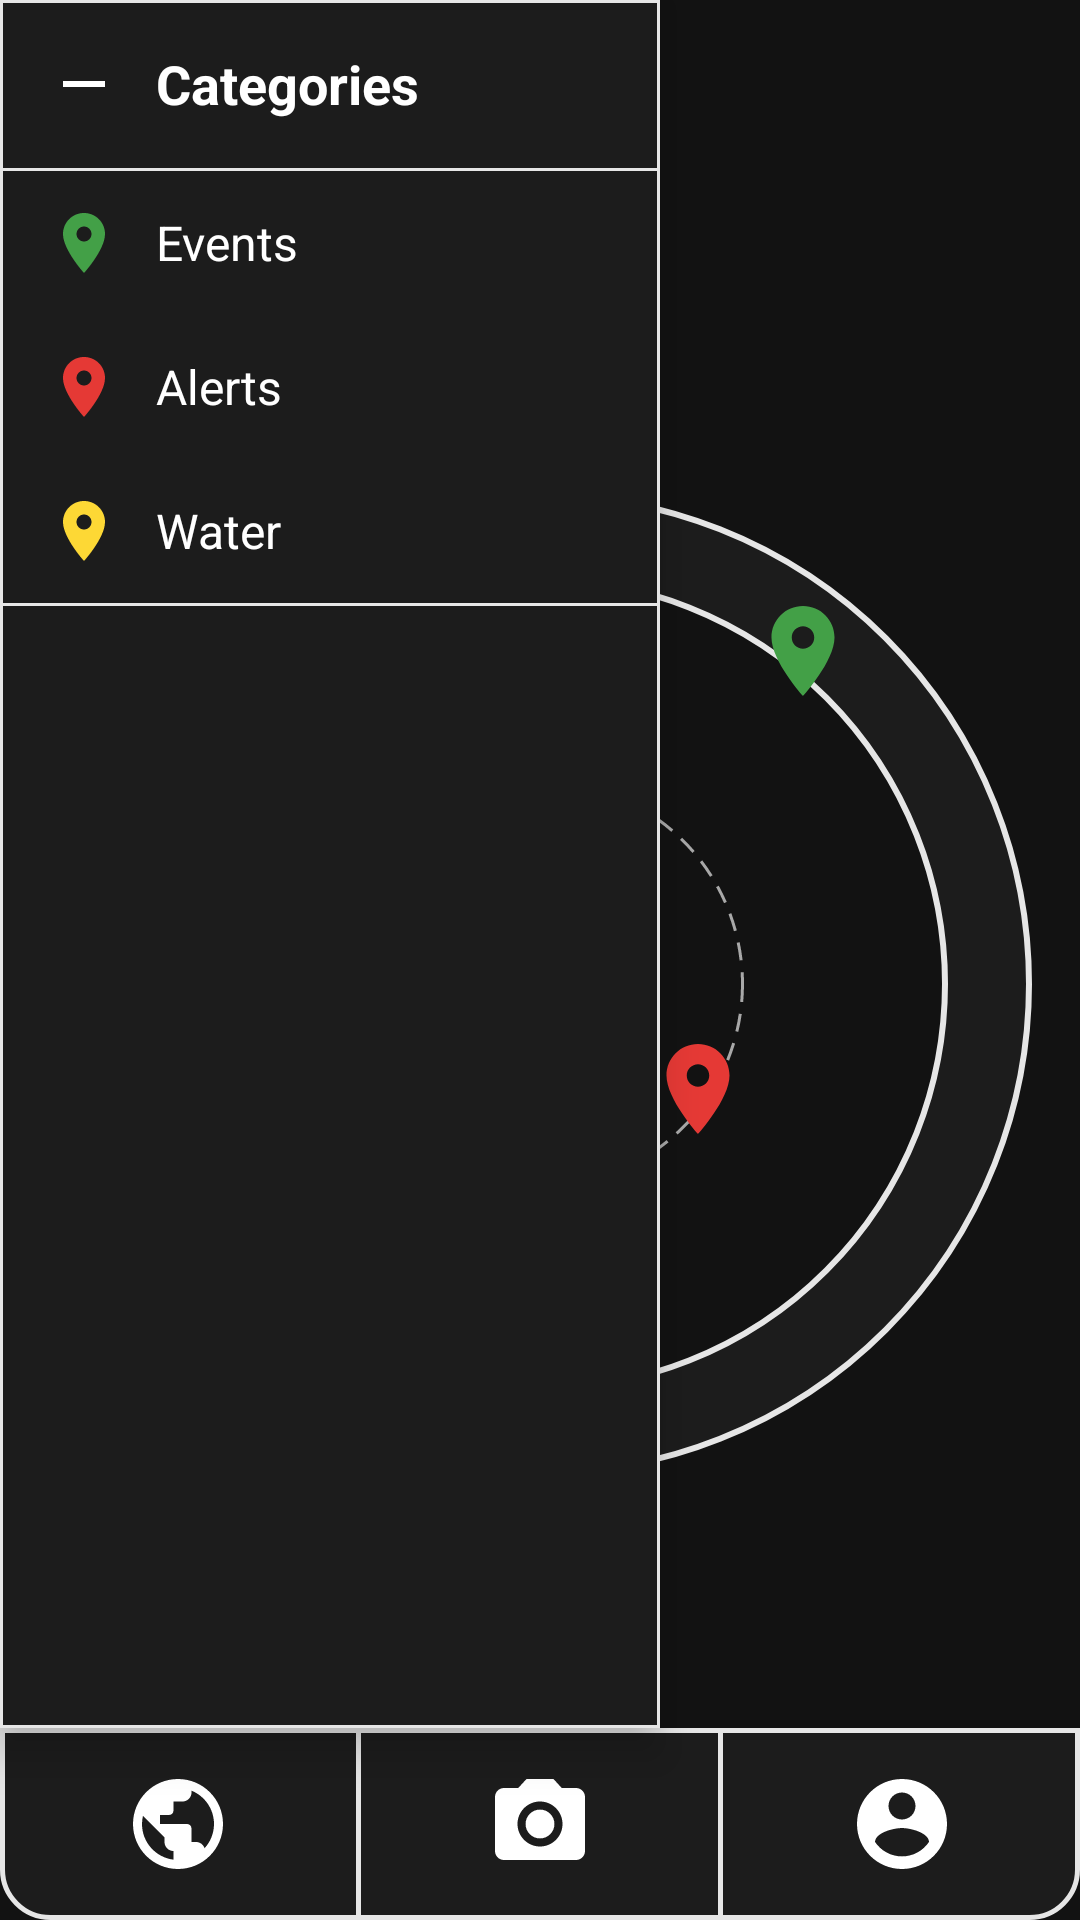

Screen size 1080px x 1920px. Icon name, then its center in pixels as point (x, y):
Profile: point (902, 1824)
Report pin: point (803, 651), point (700, 1088)
